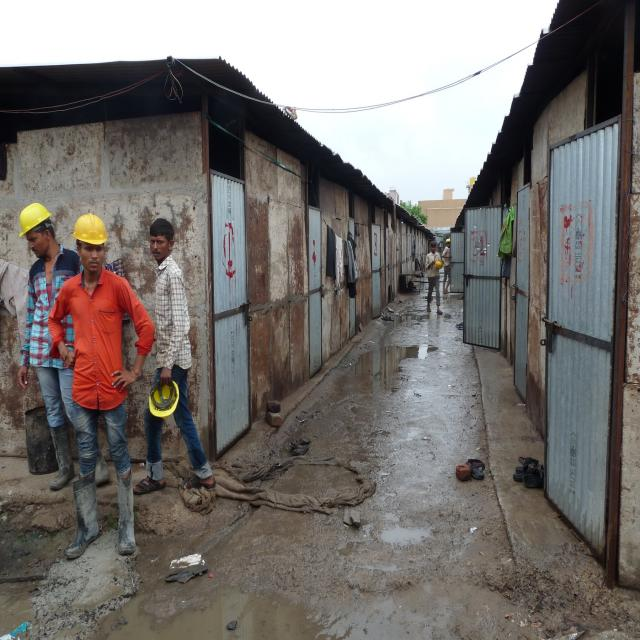Safety-Helmet: (16, 200, 52, 238), (71, 211, 111, 245), (434, 258, 442, 269), (444, 237, 452, 245)
